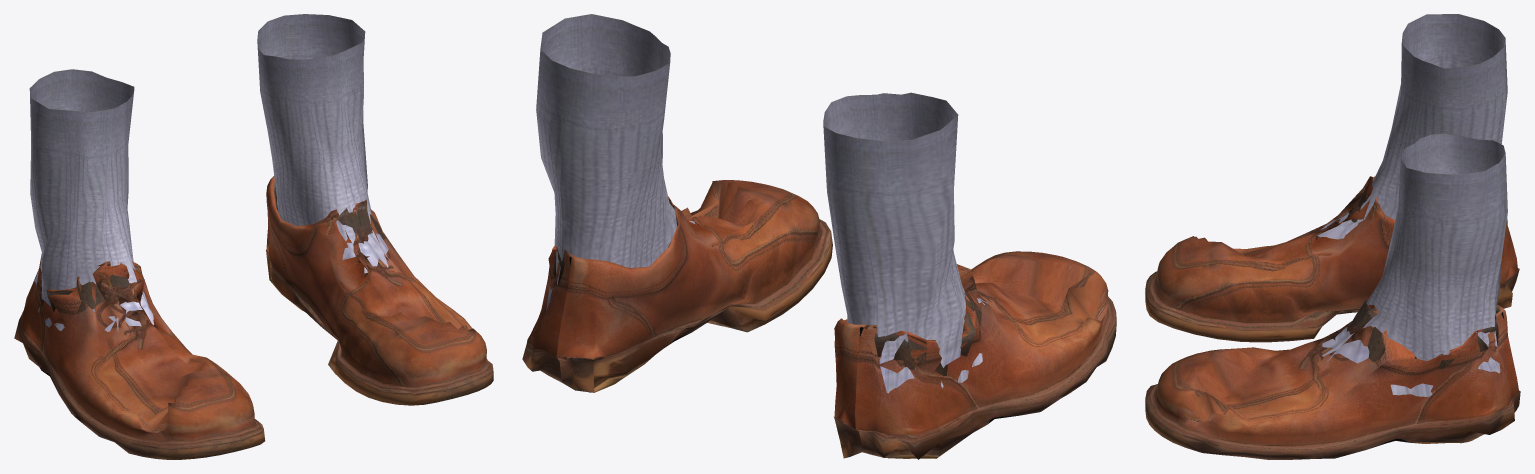
The model's file is boots-brown.glb.
The picture shows the model from 3 angles, left to right: view 1: azimuth 30°, elevation 25°; view 2: azimuth 150°, elevation 25°; view 3: azimuth 270°, elevation 25°; orthographic projection. The views are drawn at different scales.
Parts seen in each view (by area): view 1: boots-brown; view 2: boots-brown; view 3: boots-brown.
Boxes of the visible parts, x1=… form: boots-brown: x1=14, y1=14, x2=493, y2=459; boots-brown: x1=522, y1=14, x2=1116, y2=459; boots-brown: x1=1145, y1=14, x2=1520, y2=459.
Size of the model in its own units: 0.3113 by 0.2152 by 0.2626.
Materials: 1 (1 with a texture image).
